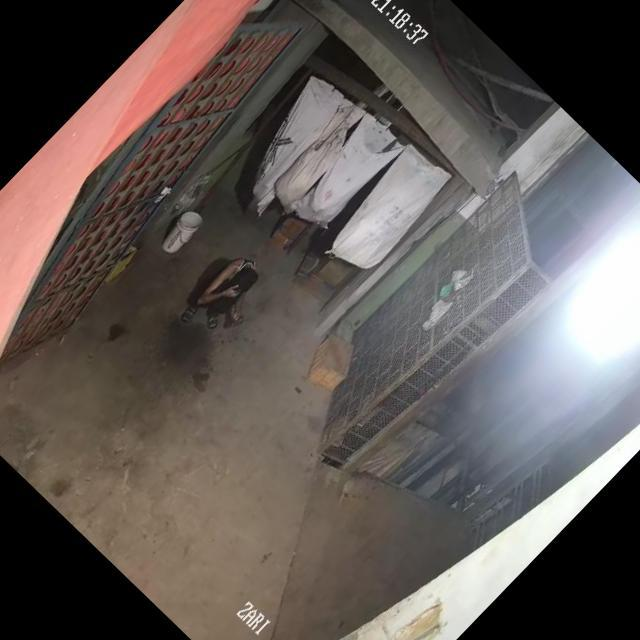person: (170, 245, 276, 352)
